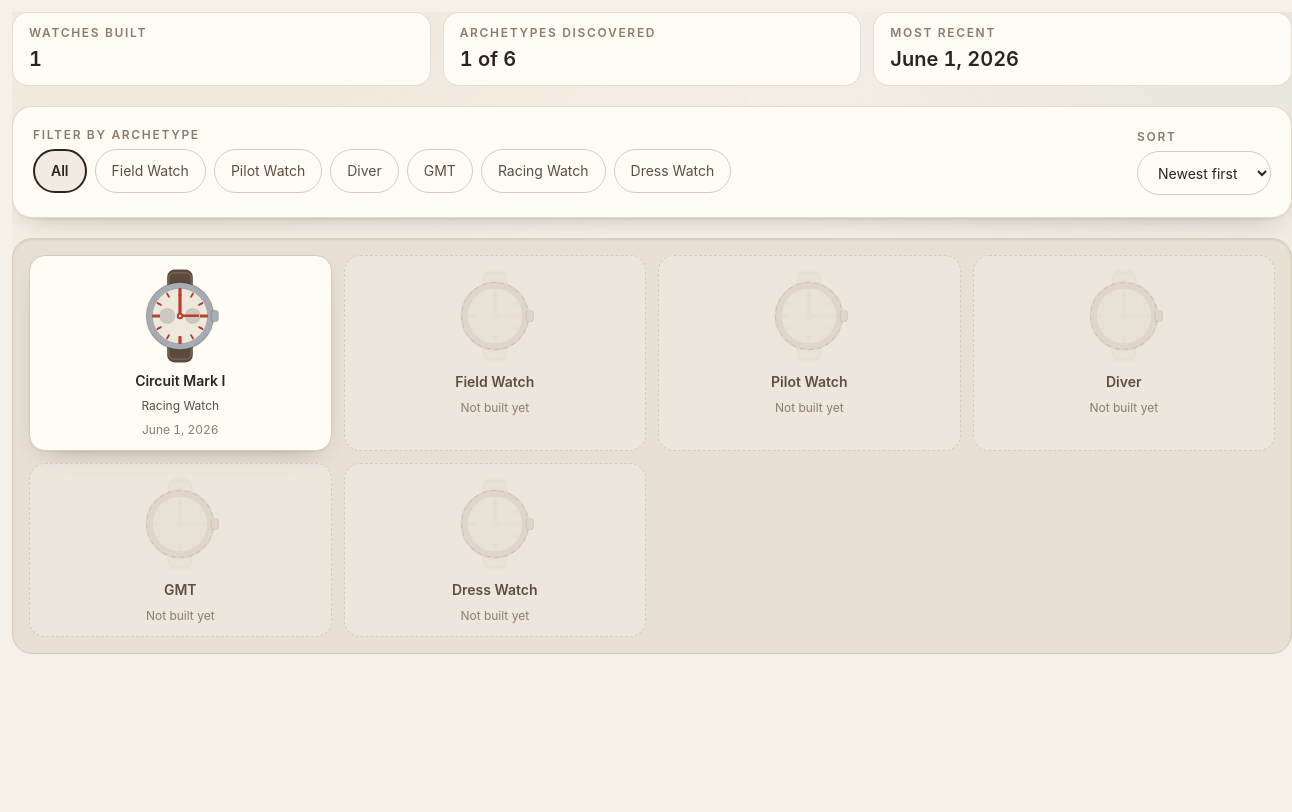
WatchBox › opens a detail view with components and serial number
This screenshot has width=1292, height=812.
Click the button "Circuit Mark I Racing Watch June 1, 2026".
click(180, 353)  # box [29, 255, 332, 450]
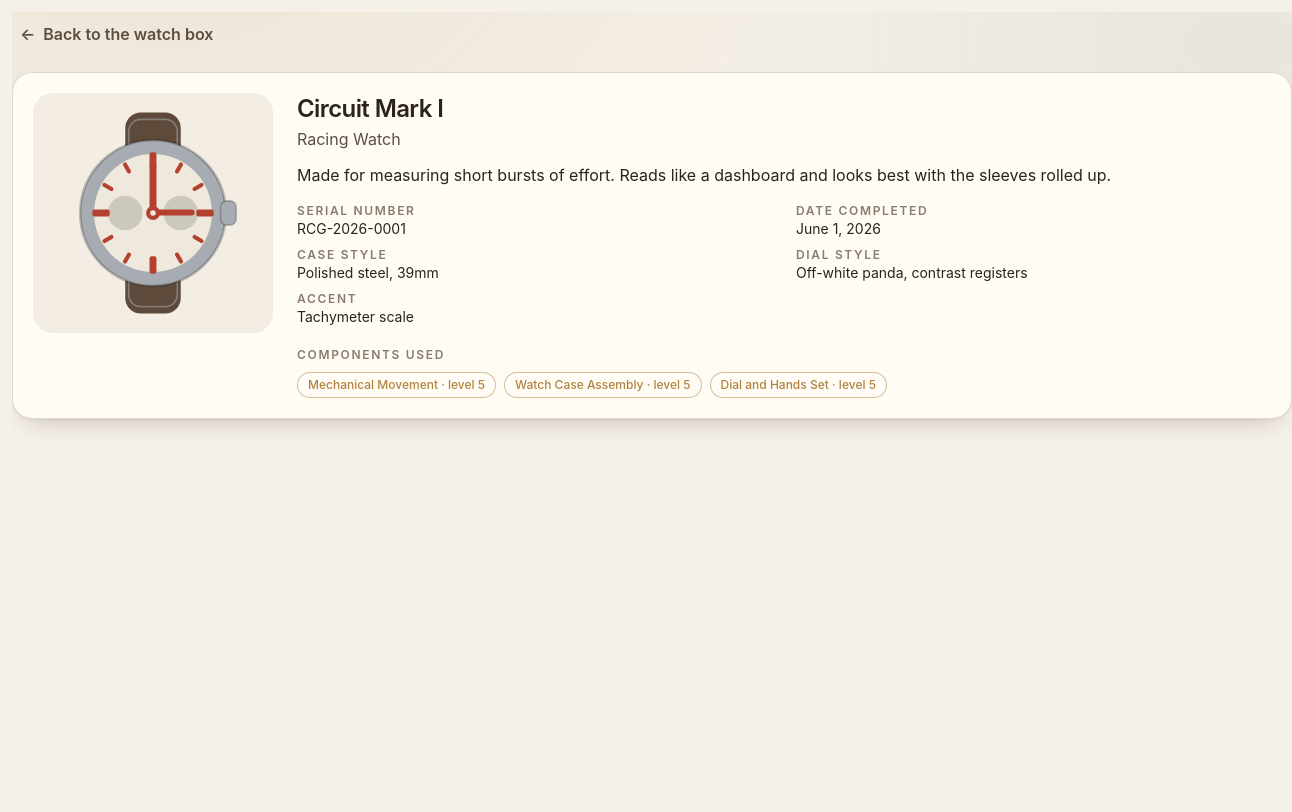
Check: the text "Mechanical Movement · level 5" is shown, box [297, 372, 496, 398]
